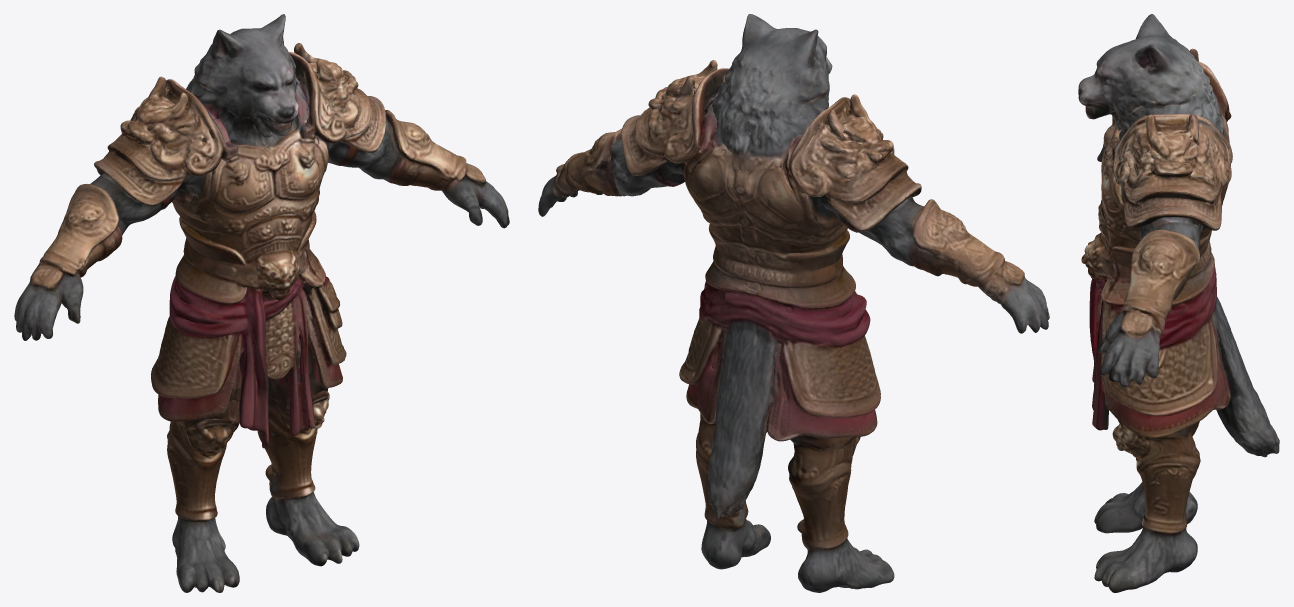
The model's file is yaoguai-guard.glb.
The picture shows the model from 3 angles, left to right: view 1: azimuth 30°, elevation 25°; view 2: azimuth 150°, elevation 25°; view 3: azimuth 270°, elevation 25°; orthographic projection. The views are drawn at different scales.
Parts seen in each view (by area): view 1: geometry_0; view 2: geometry_0; view 3: geometry_0.
Boxes of the visible parts, bbox=[...] form: geometry_0: bbox=[14, 14, 509, 592]; geometry_0: bbox=[538, 14, 1049, 592]; geometry_0: bbox=[1078, 14, 1279, 592].
Size of the model in its own units: 5.98 by 6.31 by 2.2.
Materials: 1 (1 with a texture image).
